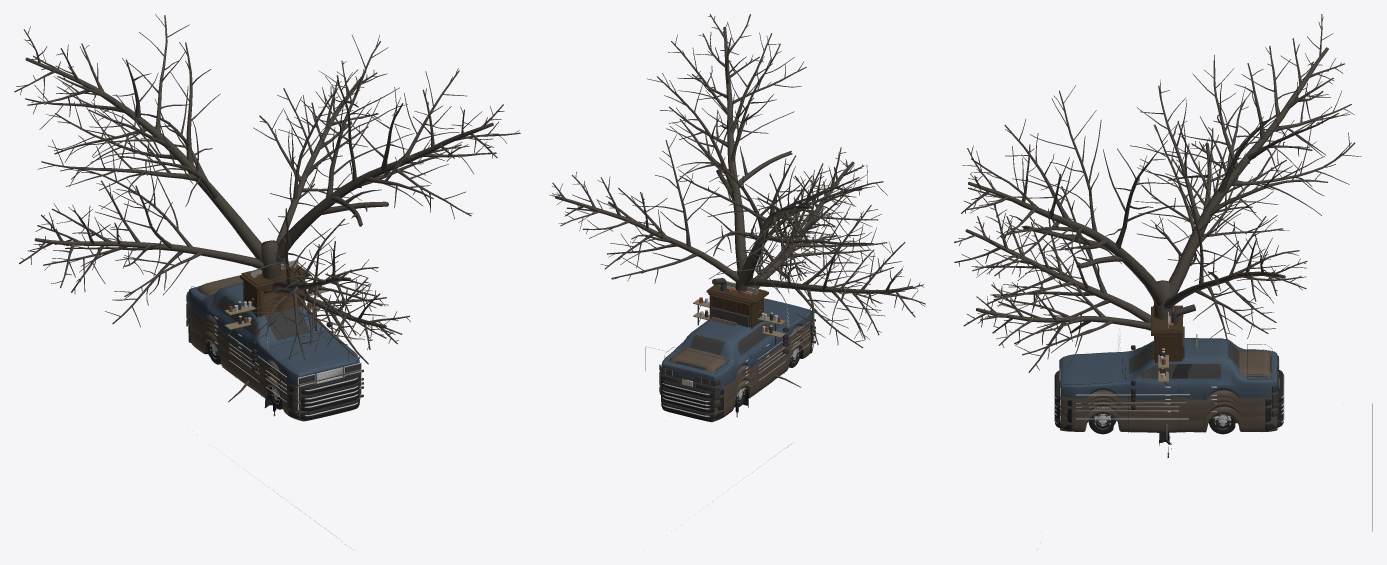
The model's file is props_m2.glb.
3 views of the same model, side by side, from view 1: azimuth 30°, elevation 25°; view 2: azimuth 150°, elevation 25°; view 3: azimuth 270°, elevation 25° (orthographic). The views are drawn at different scales.
Parts seen in each view (by area): view 1: P_TREE_3-dead_tree, P_CAR_ROW-sedan-body, P_WRECK_9-sedan-body, P_CAR_ROW-sedan, P_ADA_WARDROBE-slatted_cabinet, P_WRECK_1-sedan, P_WRECK_9-sedan, P_CAN_SHELF-can_shelf; view 2: P_TREE_3-dead_tree, P_CAR_ROW-sedan-body, P_WRECK_9-sedan-body, P_WRECK_5-sedan-body, P_ADA_WARDROBE-slatted_cabinet, P_CAN_SHELF-can_shelf, P_COAT_WARDROBE-slatted_cabinet, P_CAR_ROW-sedan, P_WRECK_9-sedan, P_WRECK_1-sedan, P_STOVE-iron_stove, P_WRECK_3-sedan; view 3: P_TREE_3-dead_tree, P_CAR_ROW-sedan-body, P_WRECK_9-sedan-body, P_WRECK_5-sedan-body, P_ADA_WARDROBE-slatted_cabinet, P_CAR_ROW-sedan, P_WRECK_1-sedan-body, P_WRECK_3-sedan-body, P_WRECK_3-sedan, P_WRECK_7-sedan-body, P_WRECK_1-sedan, P_WRECK_9-sedan (+2 smaller).
Boxes of the visible parts, x1,y1,x2,y2 form: P_TREE_3-dead_tree: [14, 14, 520, 402]; P_CAR_ROW-sedan-body: [188, 282, 360, 385]; P_WRECK_9-sedan-body: [188, 325, 360, 421]; P_CAR_ROW-sedan: [188, 289, 359, 394]; P_ADA_WARDROBE-slatted_cabinet: [240, 265, 310, 317]; P_WRECK_1-sedan: [188, 318, 359, 401]; P_WRECK_9-sedan: [188, 333, 359, 419]; P_CAN_SHELF-can_shelf: [224, 285, 328, 332]; P_TREE_3-dead_tree: [549, 14, 925, 387]; P_CAR_ROW-sedan-body: [661, 298, 812, 388]; P_WRECK_9-sedan-body: [661, 336, 812, 422]; P_WRECK_5-sedan-body: [669, 327, 812, 381]; P_ADA_WARDROBE-slatted_cabinet: [706, 281, 768, 328]; P_CAN_SHELF-can_shelf: [693, 297, 785, 343]; P_COAT_WARDROBE-slatted_cabinet: [708, 291, 760, 327]; P_CAR_ROW-sedan: [661, 300, 812, 397]; P_WRECK_9-sedan: [661, 322, 812, 419]; P_WRECK_1-sedan: [661, 308, 812, 404]; P_STOVE-iron_stove: [711, 278, 748, 327]; P_WRECK_3-sedan: [661, 338, 806, 411]; P_TREE_3-dead_tree: [954, 14, 1361, 444]; P_CAR_ROW-sedan-body: [1060, 338, 1277, 400]; P_WRECK_9-sedan-body: [1060, 406, 1277, 432]; P_WRECK_5-sedan-body: [1115, 350, 1271, 410]; P_ADA_WARDROBE-slatted_cabinet: [1151, 305, 1182, 363]; P_CAR_ROW-sedan: [1054, 326, 1284, 416]; P_WRECK_1-sedan-body: [1096, 390, 1271, 406]; P_WRECK_3-sedan-body: [1086, 401, 1276, 420]; P_WRECK_3-sedan: [1088, 351, 1284, 434]; P_WRECK_7-sedan-body: [1061, 390, 1271, 406]; P_WRECK_1-sedan: [1054, 334, 1284, 425]; P_WRECK_9-sedan: [1054, 348, 1284, 432].
Size of what is drawn, in the model's own units: 9.7 by 11.35 by 9.35.
